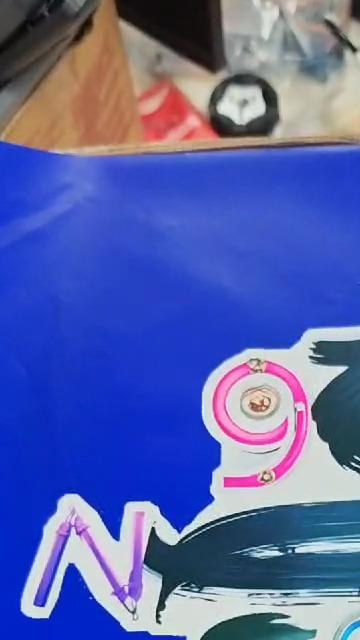B_R1: (10, 294, 360, 640)
